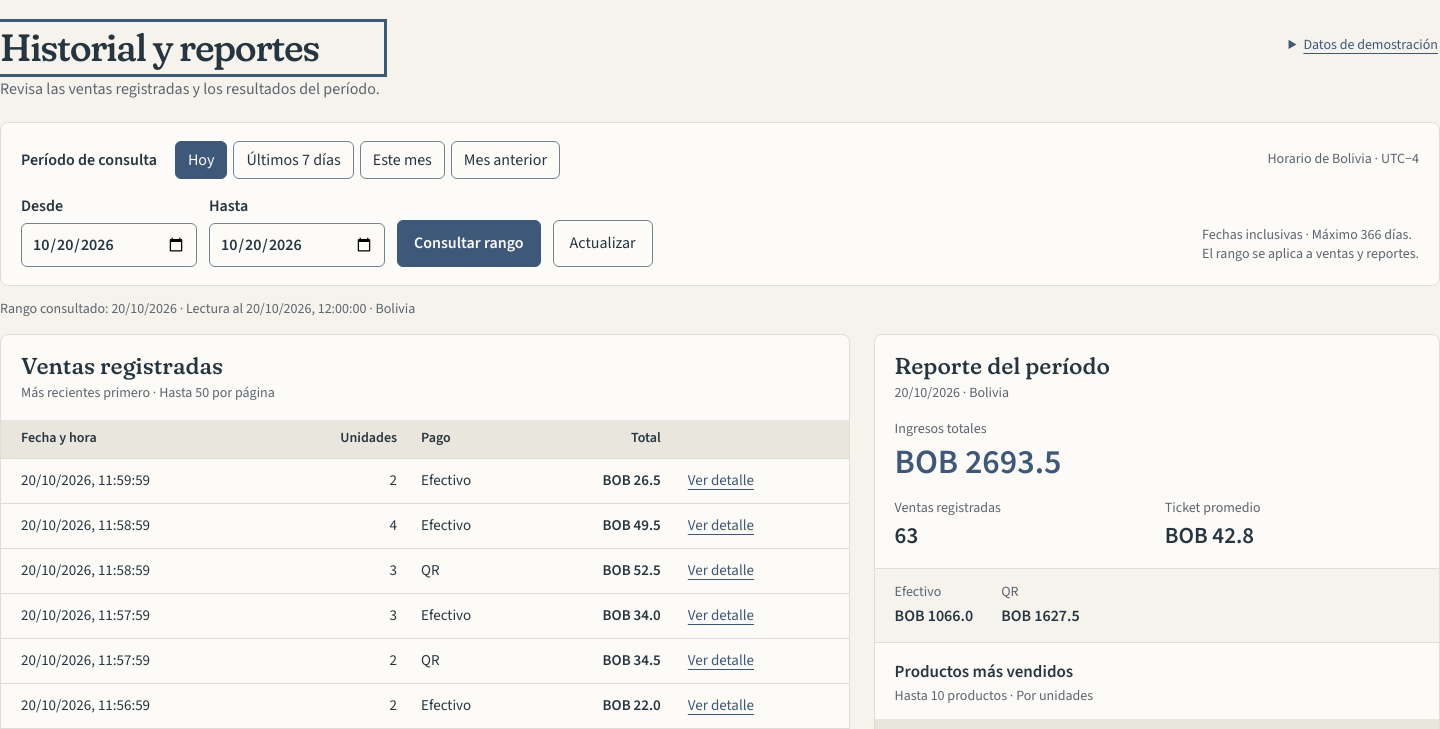
Test case: Historial y reportes, interfaz completa › vacío con normal: sin promedio ficticio ni reporte inventado
The width and height of the screenshot is (1440, 729).
Type "2020-01-01" into the date field labelled "Desde" at (109, 245), box [21, 223, 197, 267]
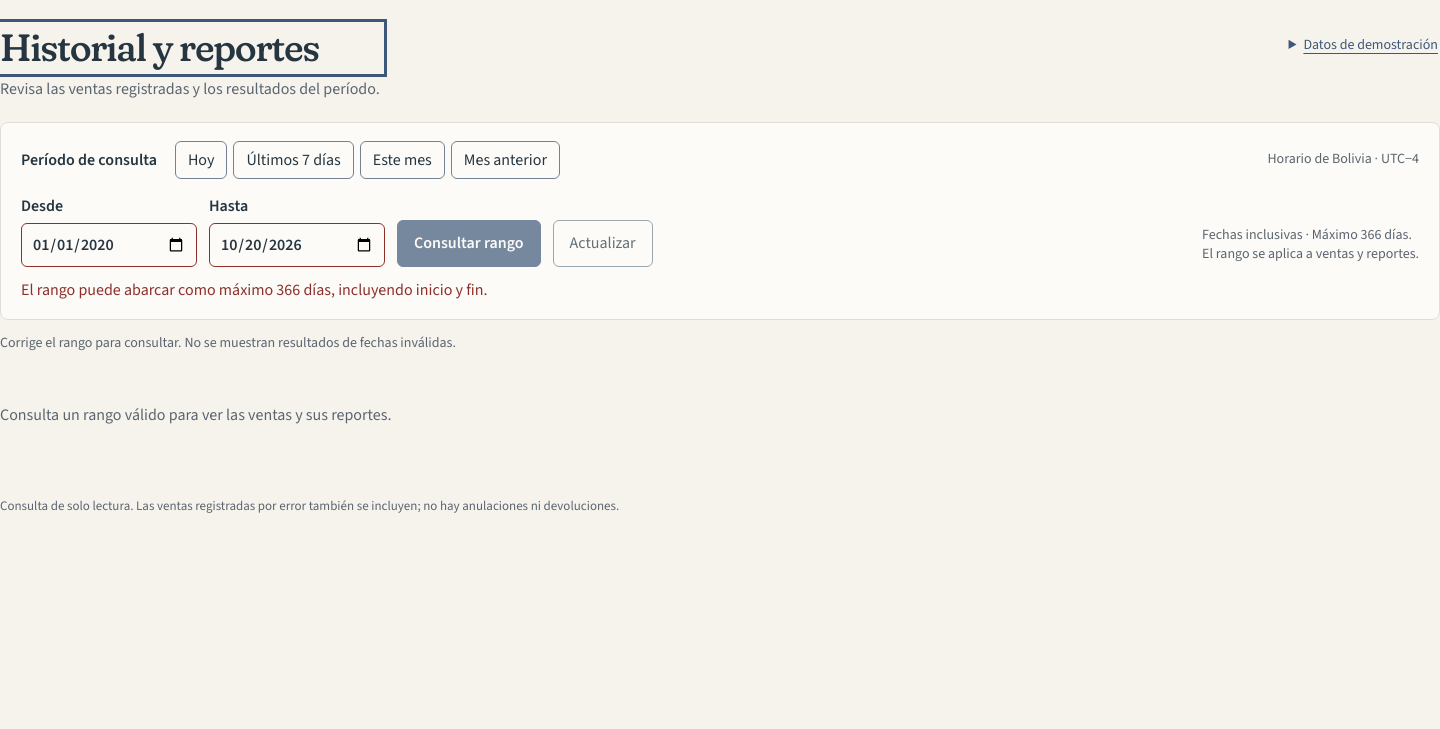
Type "2020-01-01" into the date field labelled "Hasta" at (297, 245), box [209, 223, 385, 267]
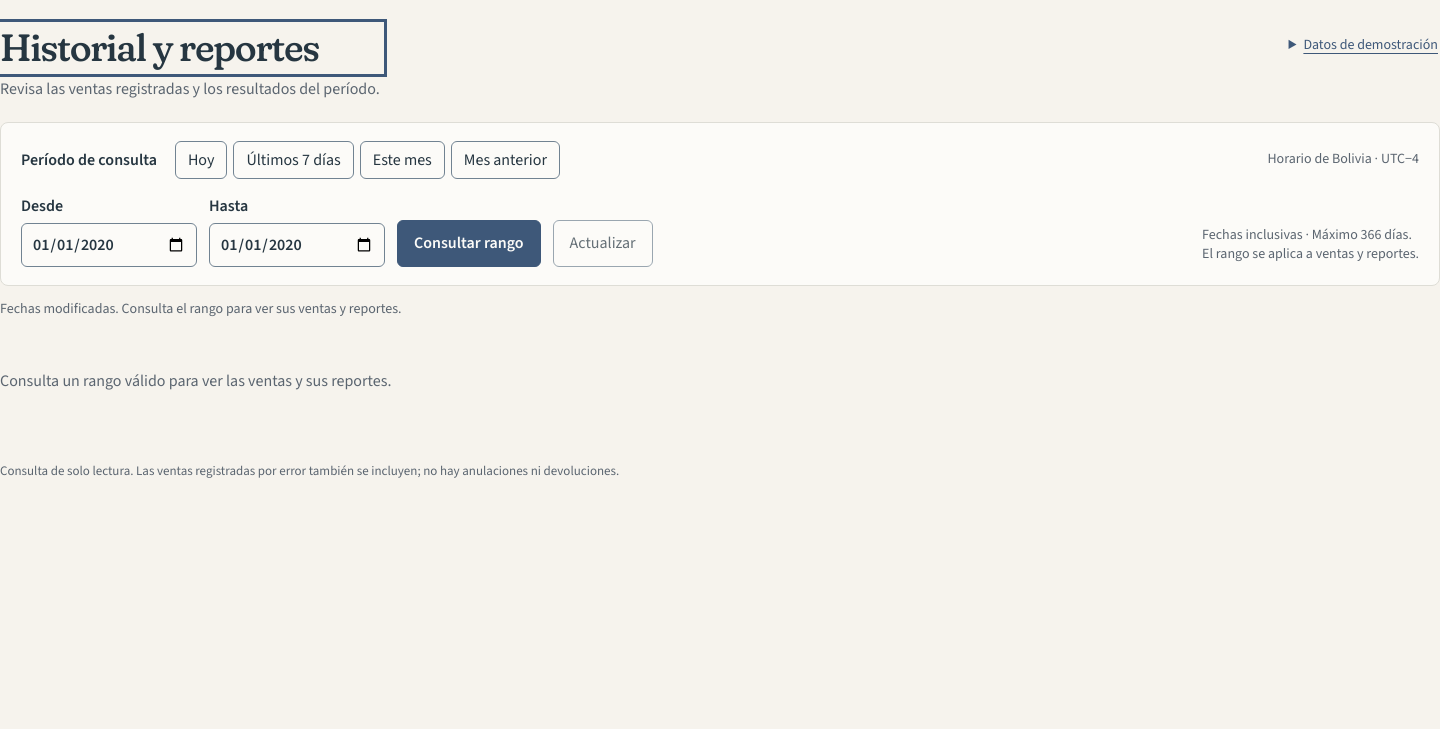
Click the button "Consultar rango" at (469, 244), box [397, 220, 541, 267]
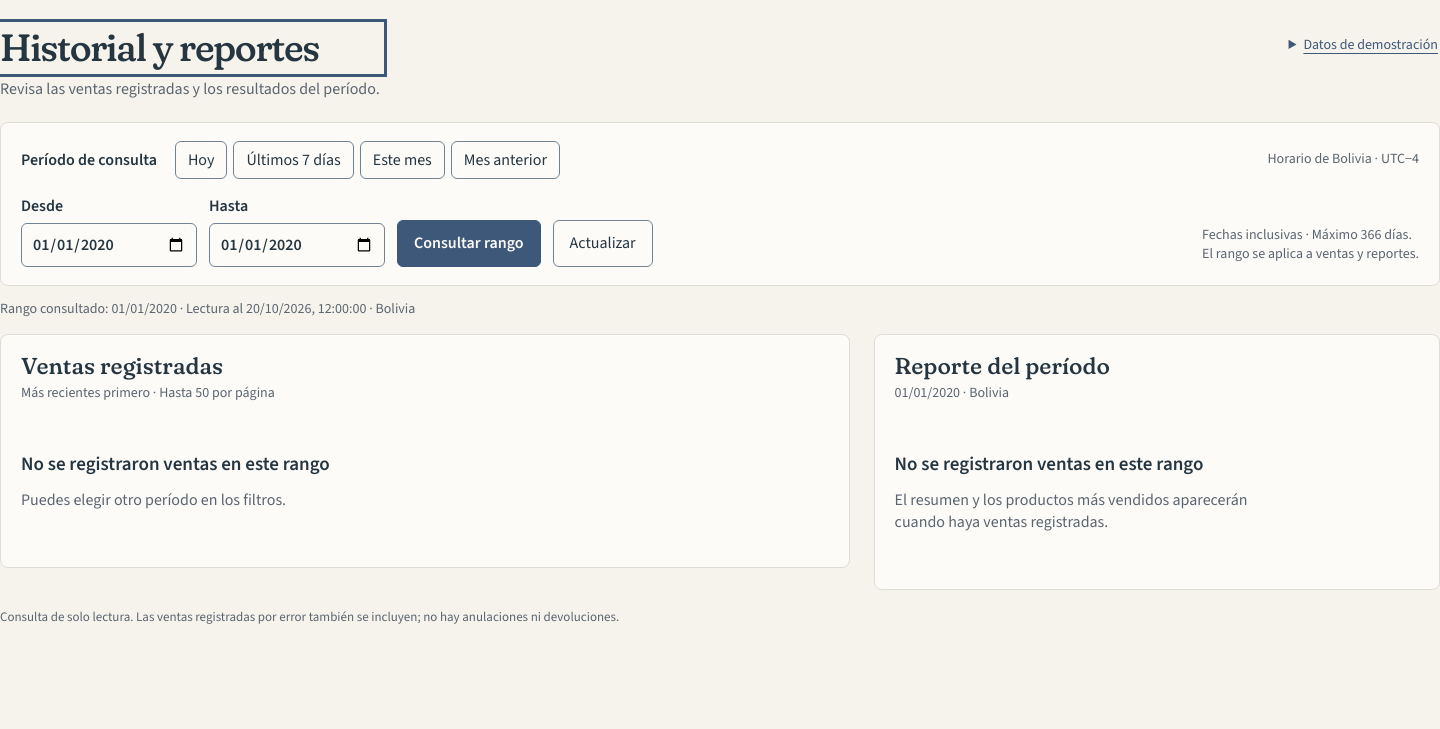
Check: the text "Ticket promedio" is not shown
Check: the number of headings "No se registraron ventas en este rango" is 2, box [21, 451, 330, 478]; [895, 451, 1203, 478]
